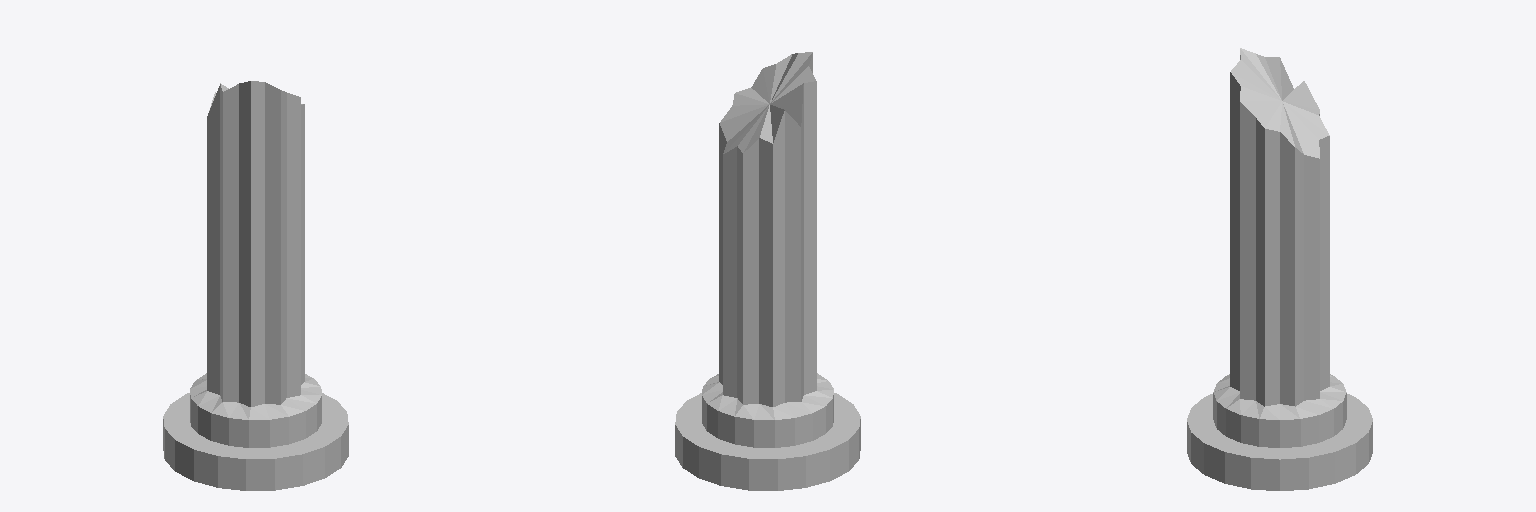
Rendered from pillarBroken1.obj.
3 views of the same model, side by side, from view 1: azimuth 30°, elevation 25°; view 2: azimuth 150°, elevation 25°; view 3: azimuth 270°, elevation 25° (orthographic).
Visible parts, largest first — view 1: pCylinder11; view 2: pCylinder11; view 3: pCylinder11.
Boxes of the visible parts, box(x1,y1,x2,y2) form: pCylinder11: box(163, 81, 348, 490); pCylinder11: box(675, 52, 860, 490); pCylinder11: box(1187, 48, 1372, 490).
Size of the model in its own units: 0.8952 by 2.07 by 0.8952.